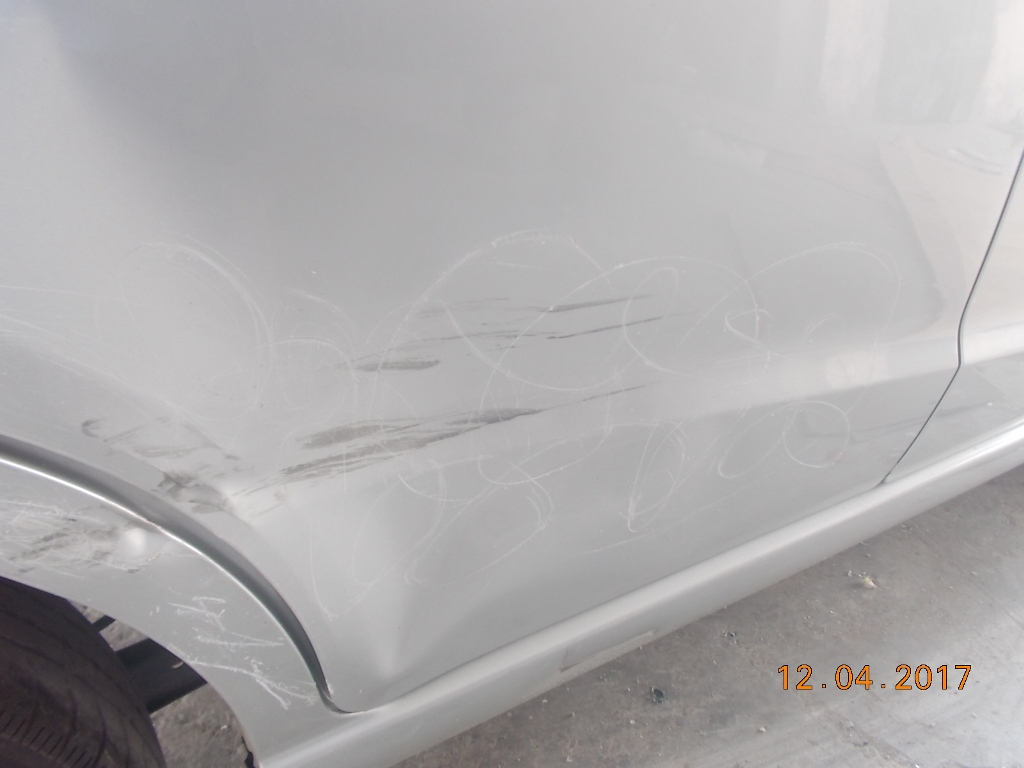Scratch_or_spot: (287, 399, 537, 482), (148, 438, 243, 504)
